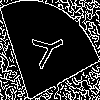Y: (25, 25, 68, 74)
